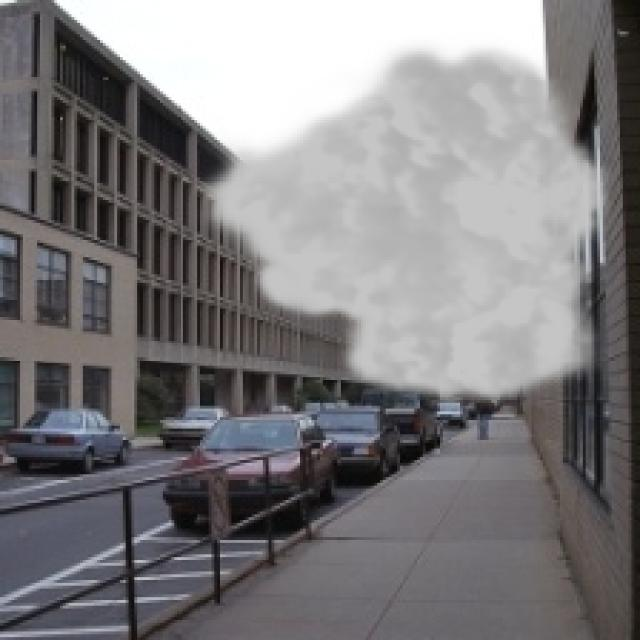smoke: (192, 34, 614, 412)
